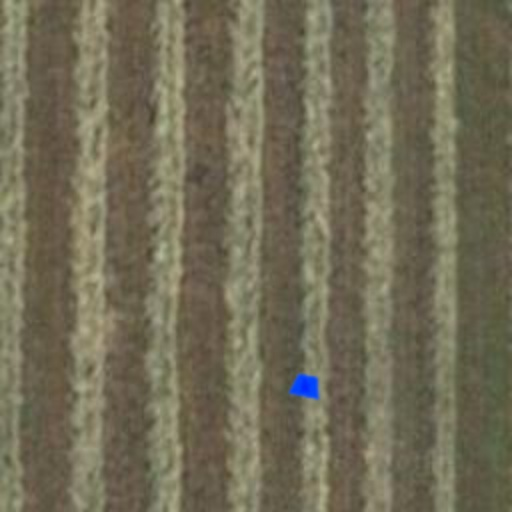trapezoid: (286, 366, 326, 406)
